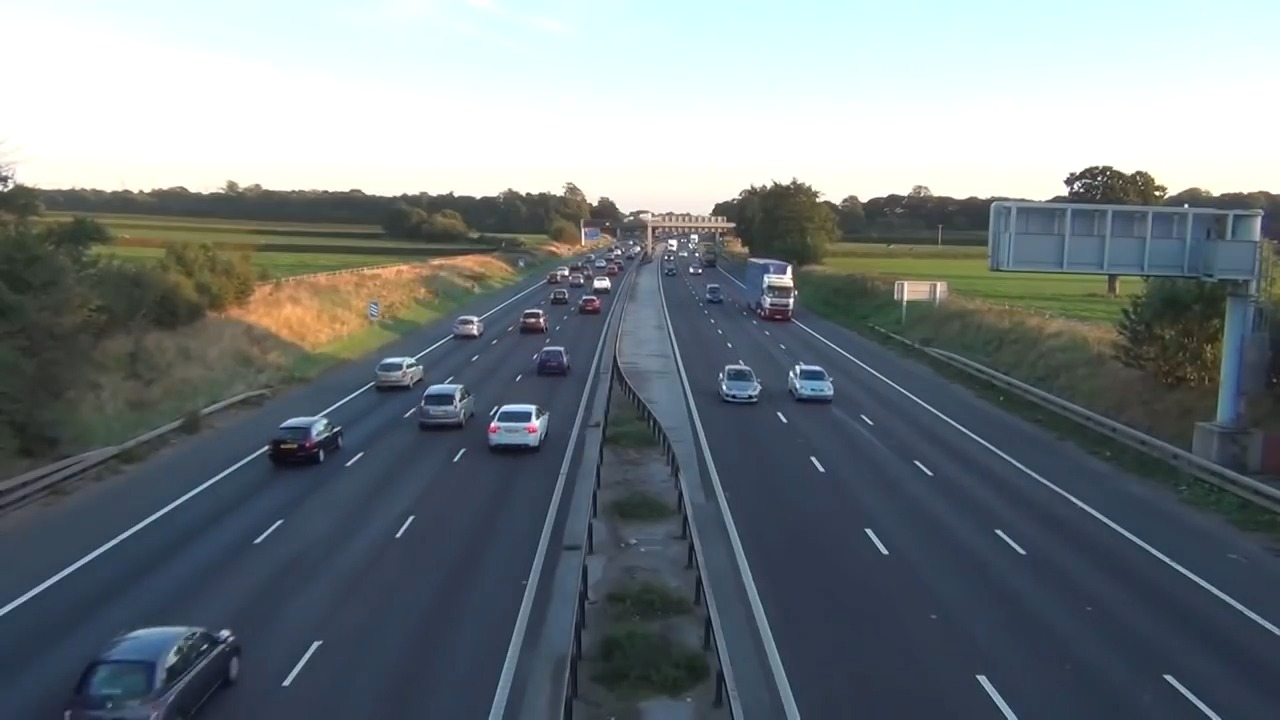truck: (744, 255, 795, 321)
